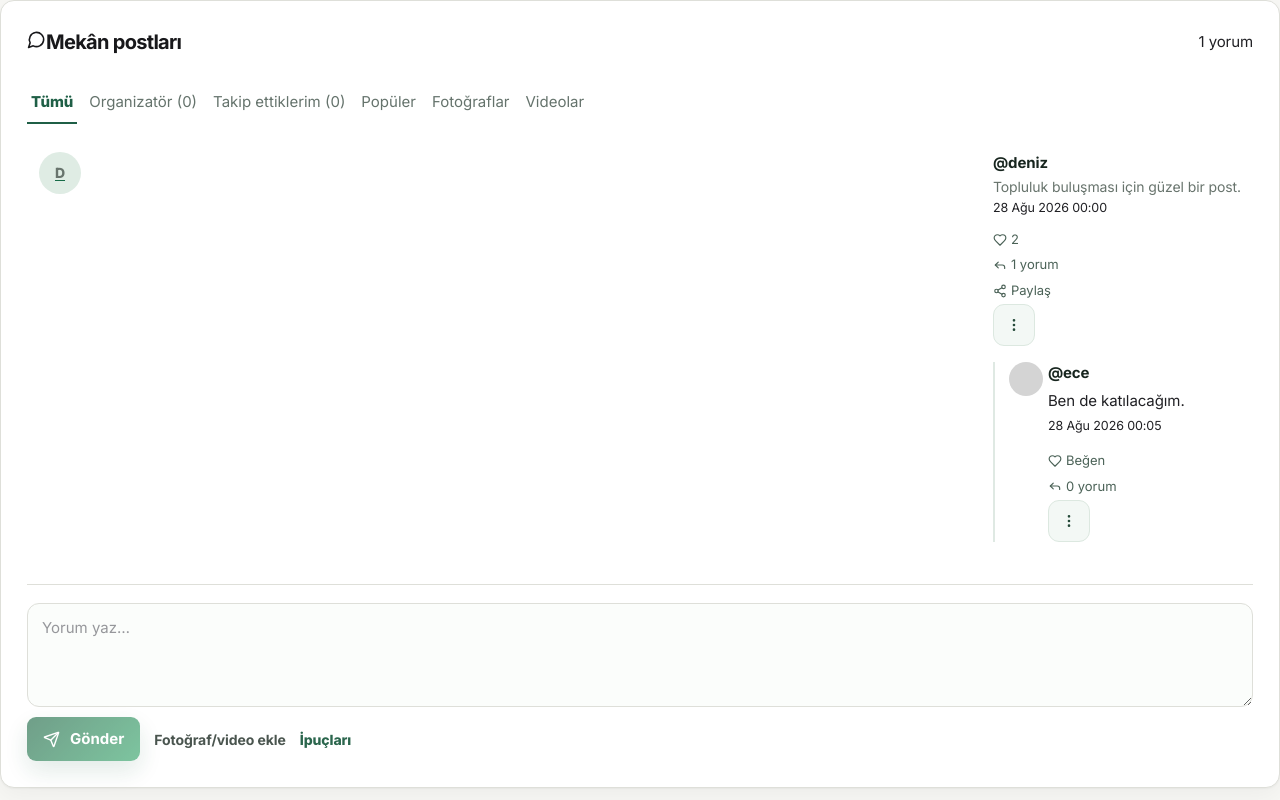
destek ve içerik gereksinimleri 125–141 › üst seviye postun Paylaş düğmesinden paylaşım lightbox'ını açar
Click the button "Paylaş" at (1117, 291), box [993, 279, 1241, 302]
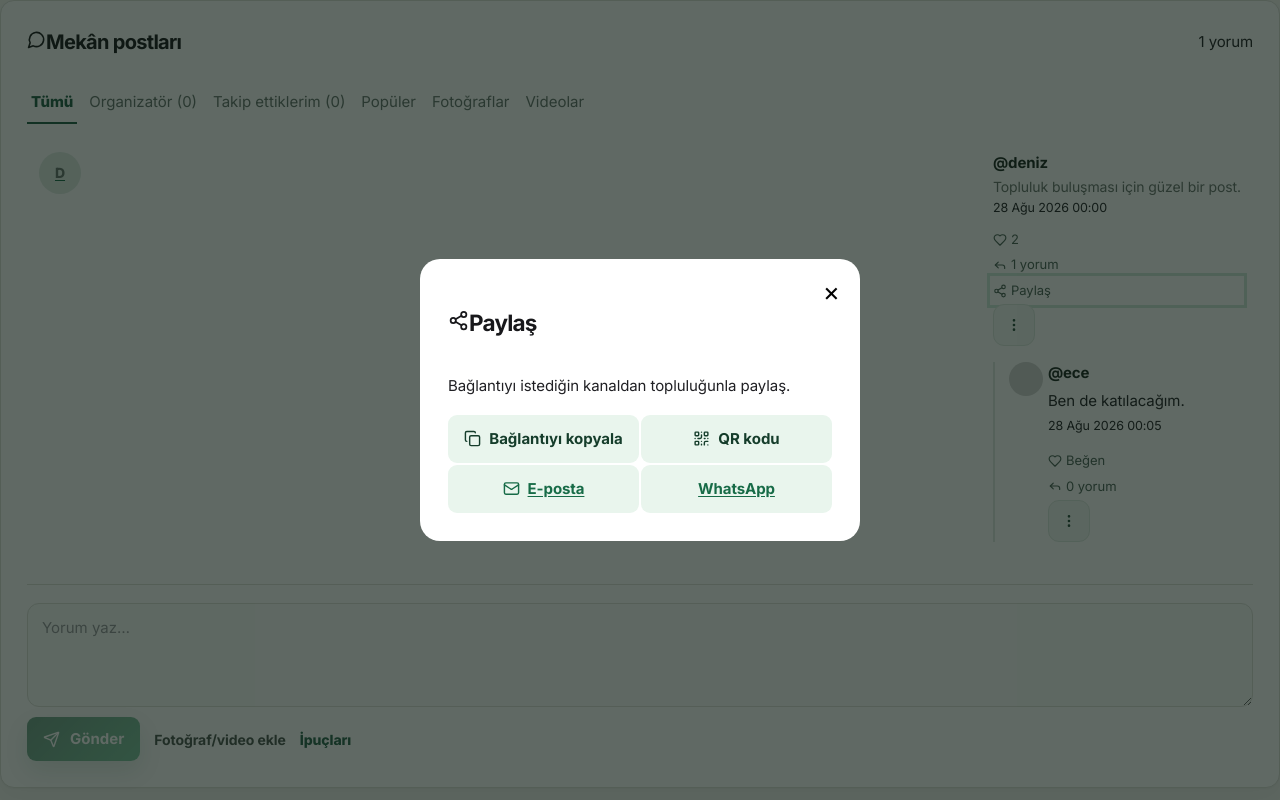
Now the dialog "Paylaş" is shown
Now the button "Bağlantıyı kopyala" is shown, box [448, 415, 639, 463]
Now the button "QR kodu" is shown, box [641, 415, 832, 463]
